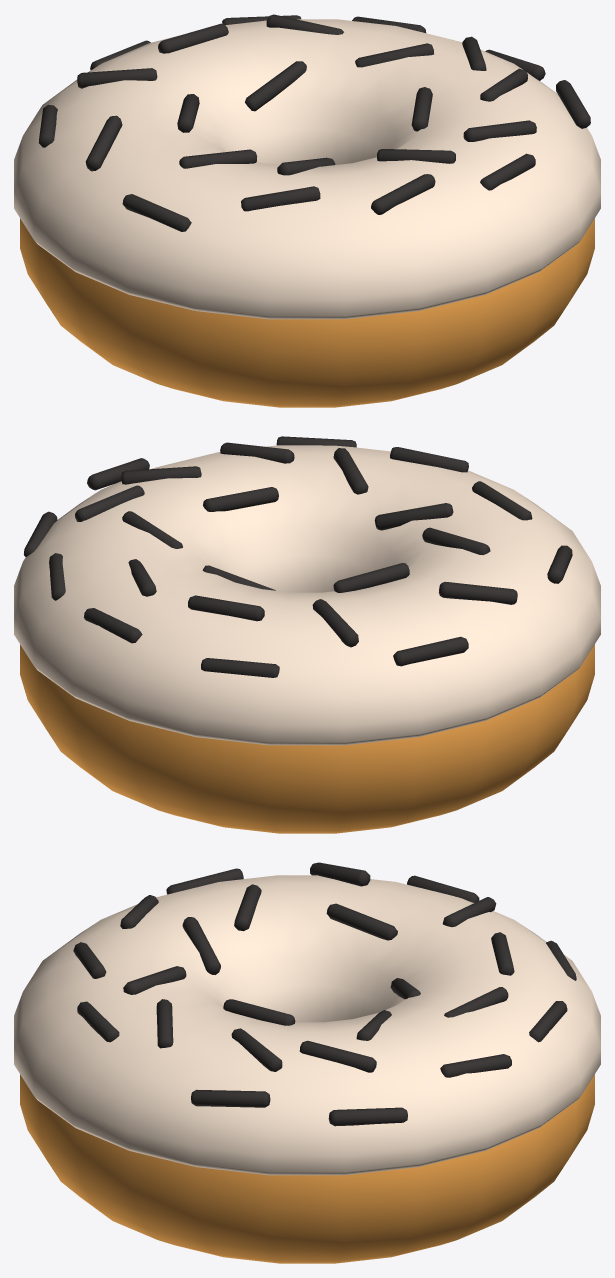
File: donut_02.fbx
3 views of the same model, one above another, from view 1: azimuth 30°, elevation 25°; view 2: azimuth 150°, elevation 25°; view 3: azimuth 270°, elevation 25° (orthographic).
Parts seen in each view (by area): view 1: donut_02; view 2: donut_02; view 3: donut_02.
Part boxes in pixels (box(x1,y1,x2,y2)): donut_02: box(14, 14, 600, 407); donut_02: box(14, 436, 600, 833); donut_02: box(14, 862, 600, 1263).
Size of the model in its own units: 1716 by 731 by 1716.
